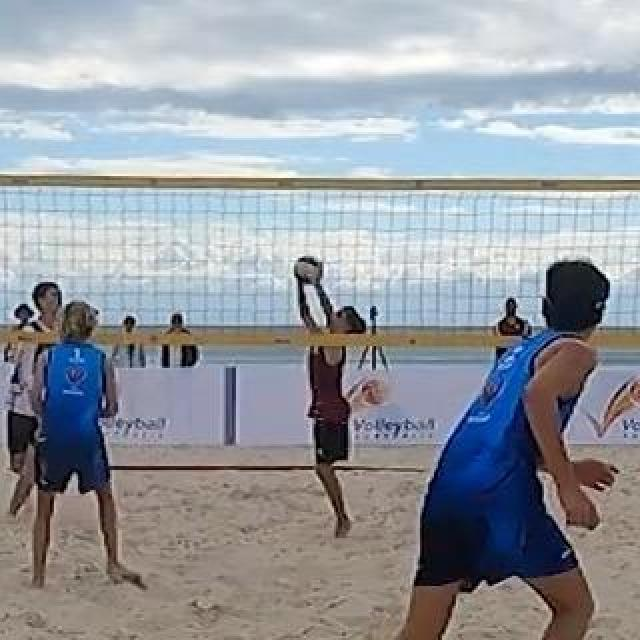volleyball: (294, 255, 324, 285)
